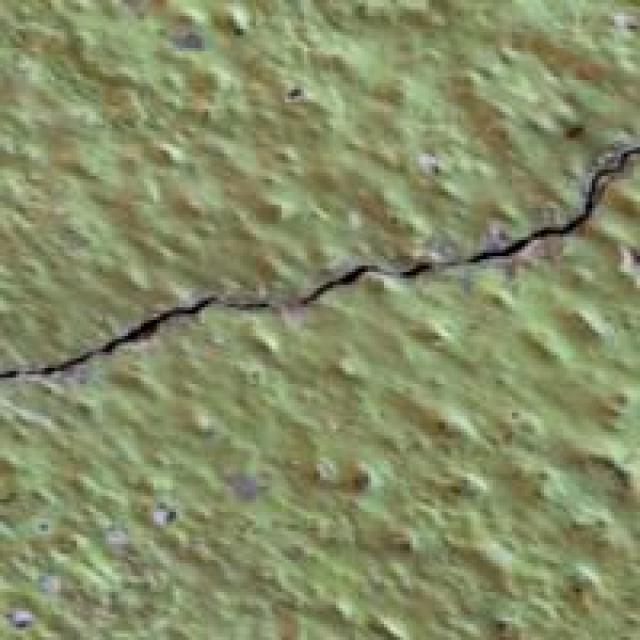crack: (0, 108, 640, 404)
